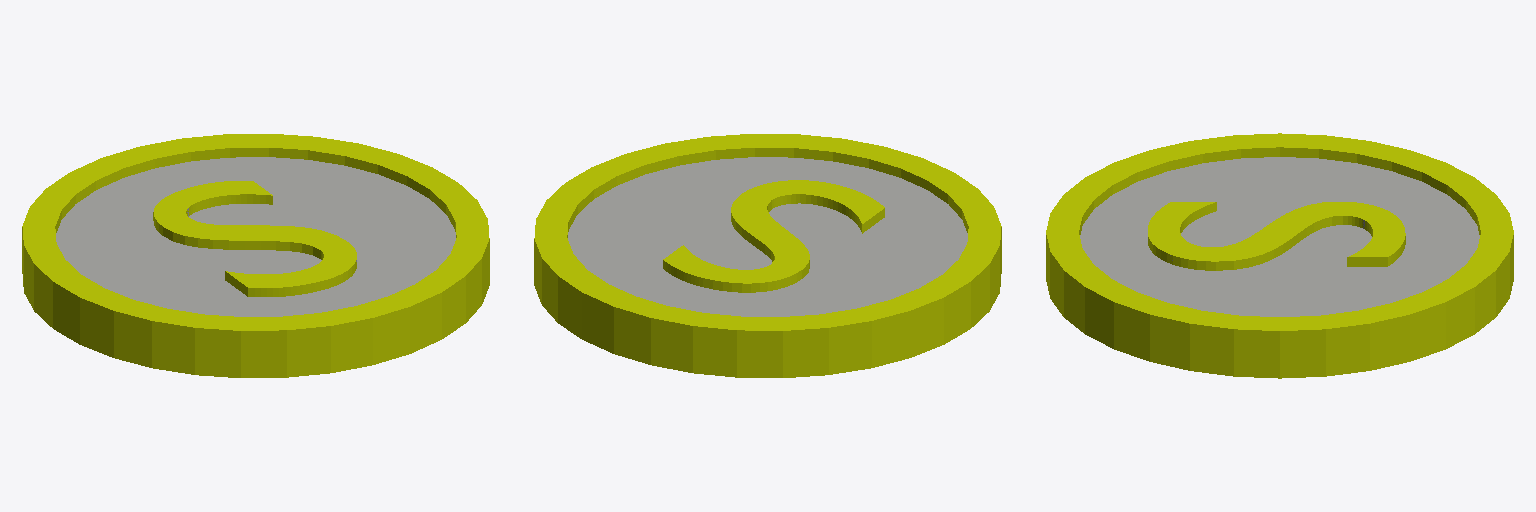
3 views of the same model, side by side, from view 1: azimuth 30°, elevation 25°; view 2: azimuth 150°, elevation 25°; view 3: azimuth 270°, elevation 25° (orthographic).
Visible parts, largest first — view 1: Cylinder; view 2: Cylinder; view 3: Cylinder.
Boxes of the visible parts, x1,y1,x2,y2 form: Cylinder: [22, 134, 489, 377]; Cylinder: [534, 134, 1001, 377]; Cylinder: [1046, 133, 1513, 378].
Bounding box in the file's own units: 2 × 0.2232 × 2.
1 materials, 1 textured.